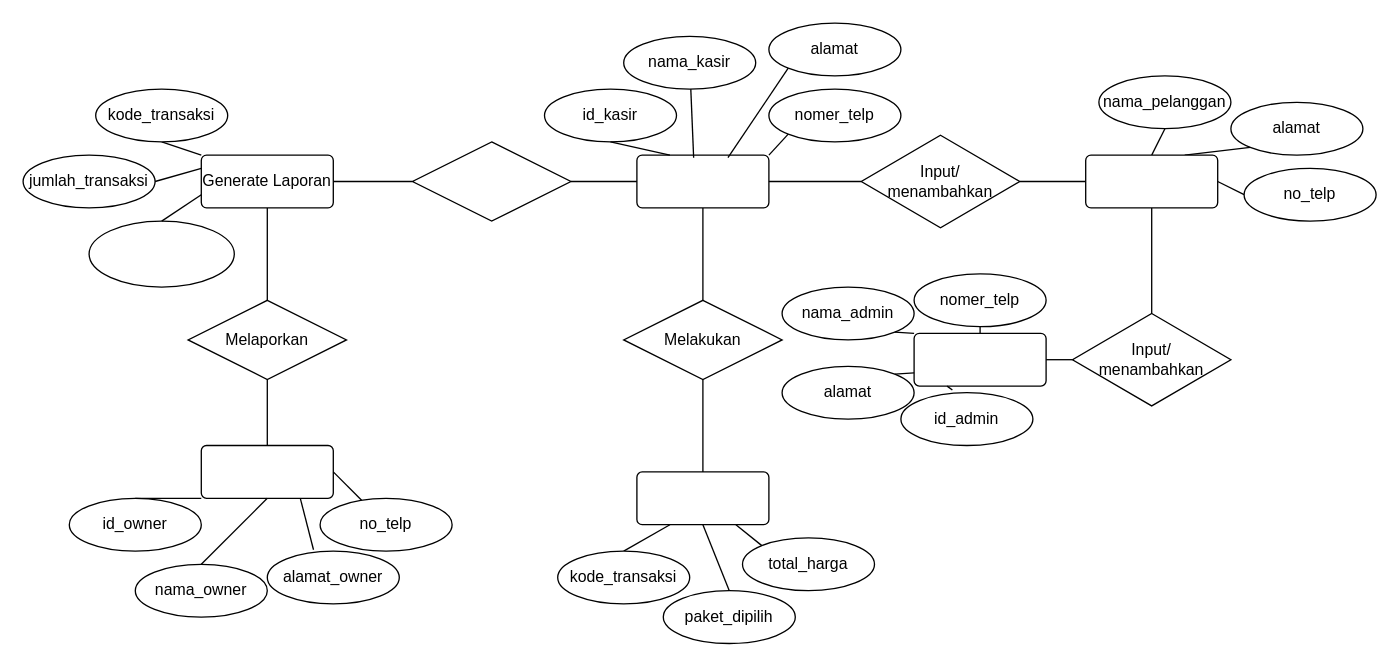
This 1399x667 diagram has some shape labels left out. Here are the shapes that lost their labels. From the top down, the box of each, then its label:
(411, 141, 571, 221): Membuat
(636, 154, 769, 208): Kasir
(1084, 154, 1218, 208): Regisrtasi Pelanggan
(88, 220, 234, 287): jumlah_keuntungan
(913, 332, 1046, 386): Admin
(200, 444, 333, 498): Owner
(636, 471, 769, 525): Entry Transaksi
